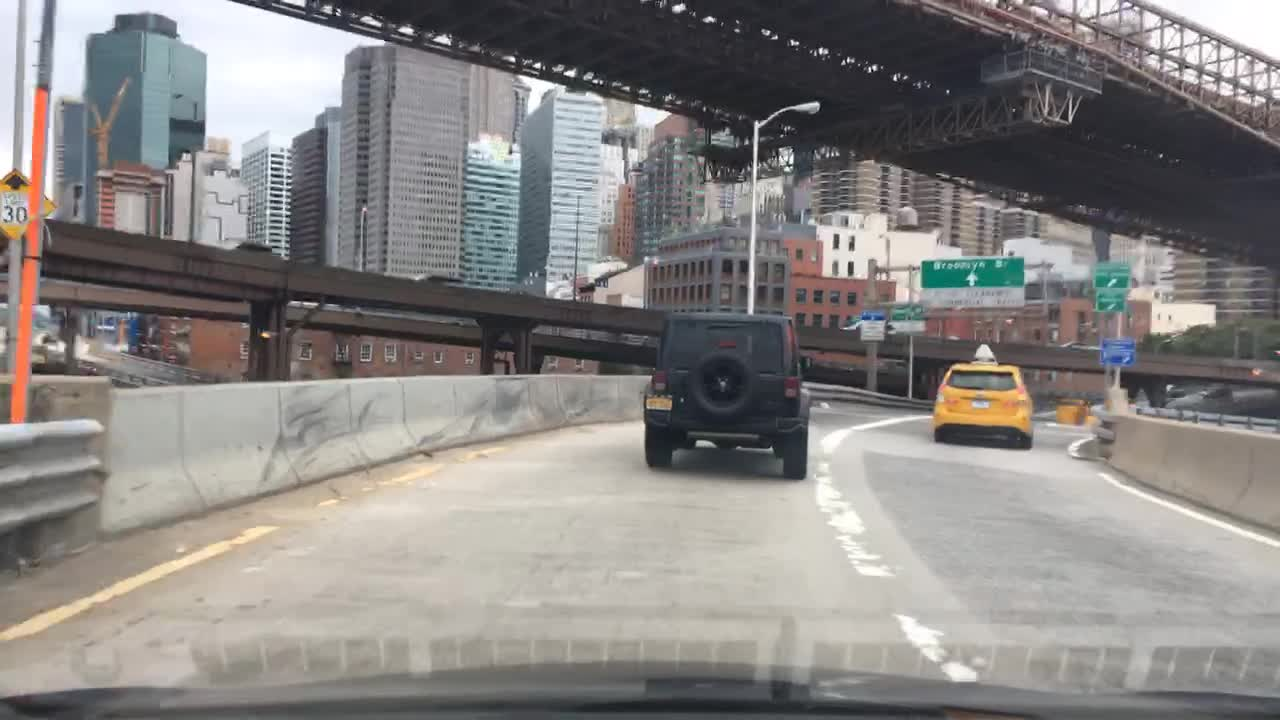car: (643, 311, 806, 479), (932, 344, 1032, 447), (221, 236, 270, 254), (411, 274, 465, 289), (1058, 398, 1086, 425), (32, 332, 62, 353), (877, 359, 904, 377), (1197, 386, 1233, 398), (838, 317, 860, 332), (1061, 341, 1092, 351), (1164, 386, 1184, 399), (817, 360, 836, 371), (1266, 344, 1278, 360), (83, 363, 98, 375), (841, 362, 860, 371), (74, 359, 92, 368)
traffic sign: (919, 260, 1023, 305), (0, 167, 54, 239), (1089, 263, 1127, 310), (1098, 336, 1134, 363), (892, 305, 925, 332), (859, 310, 883, 341)
